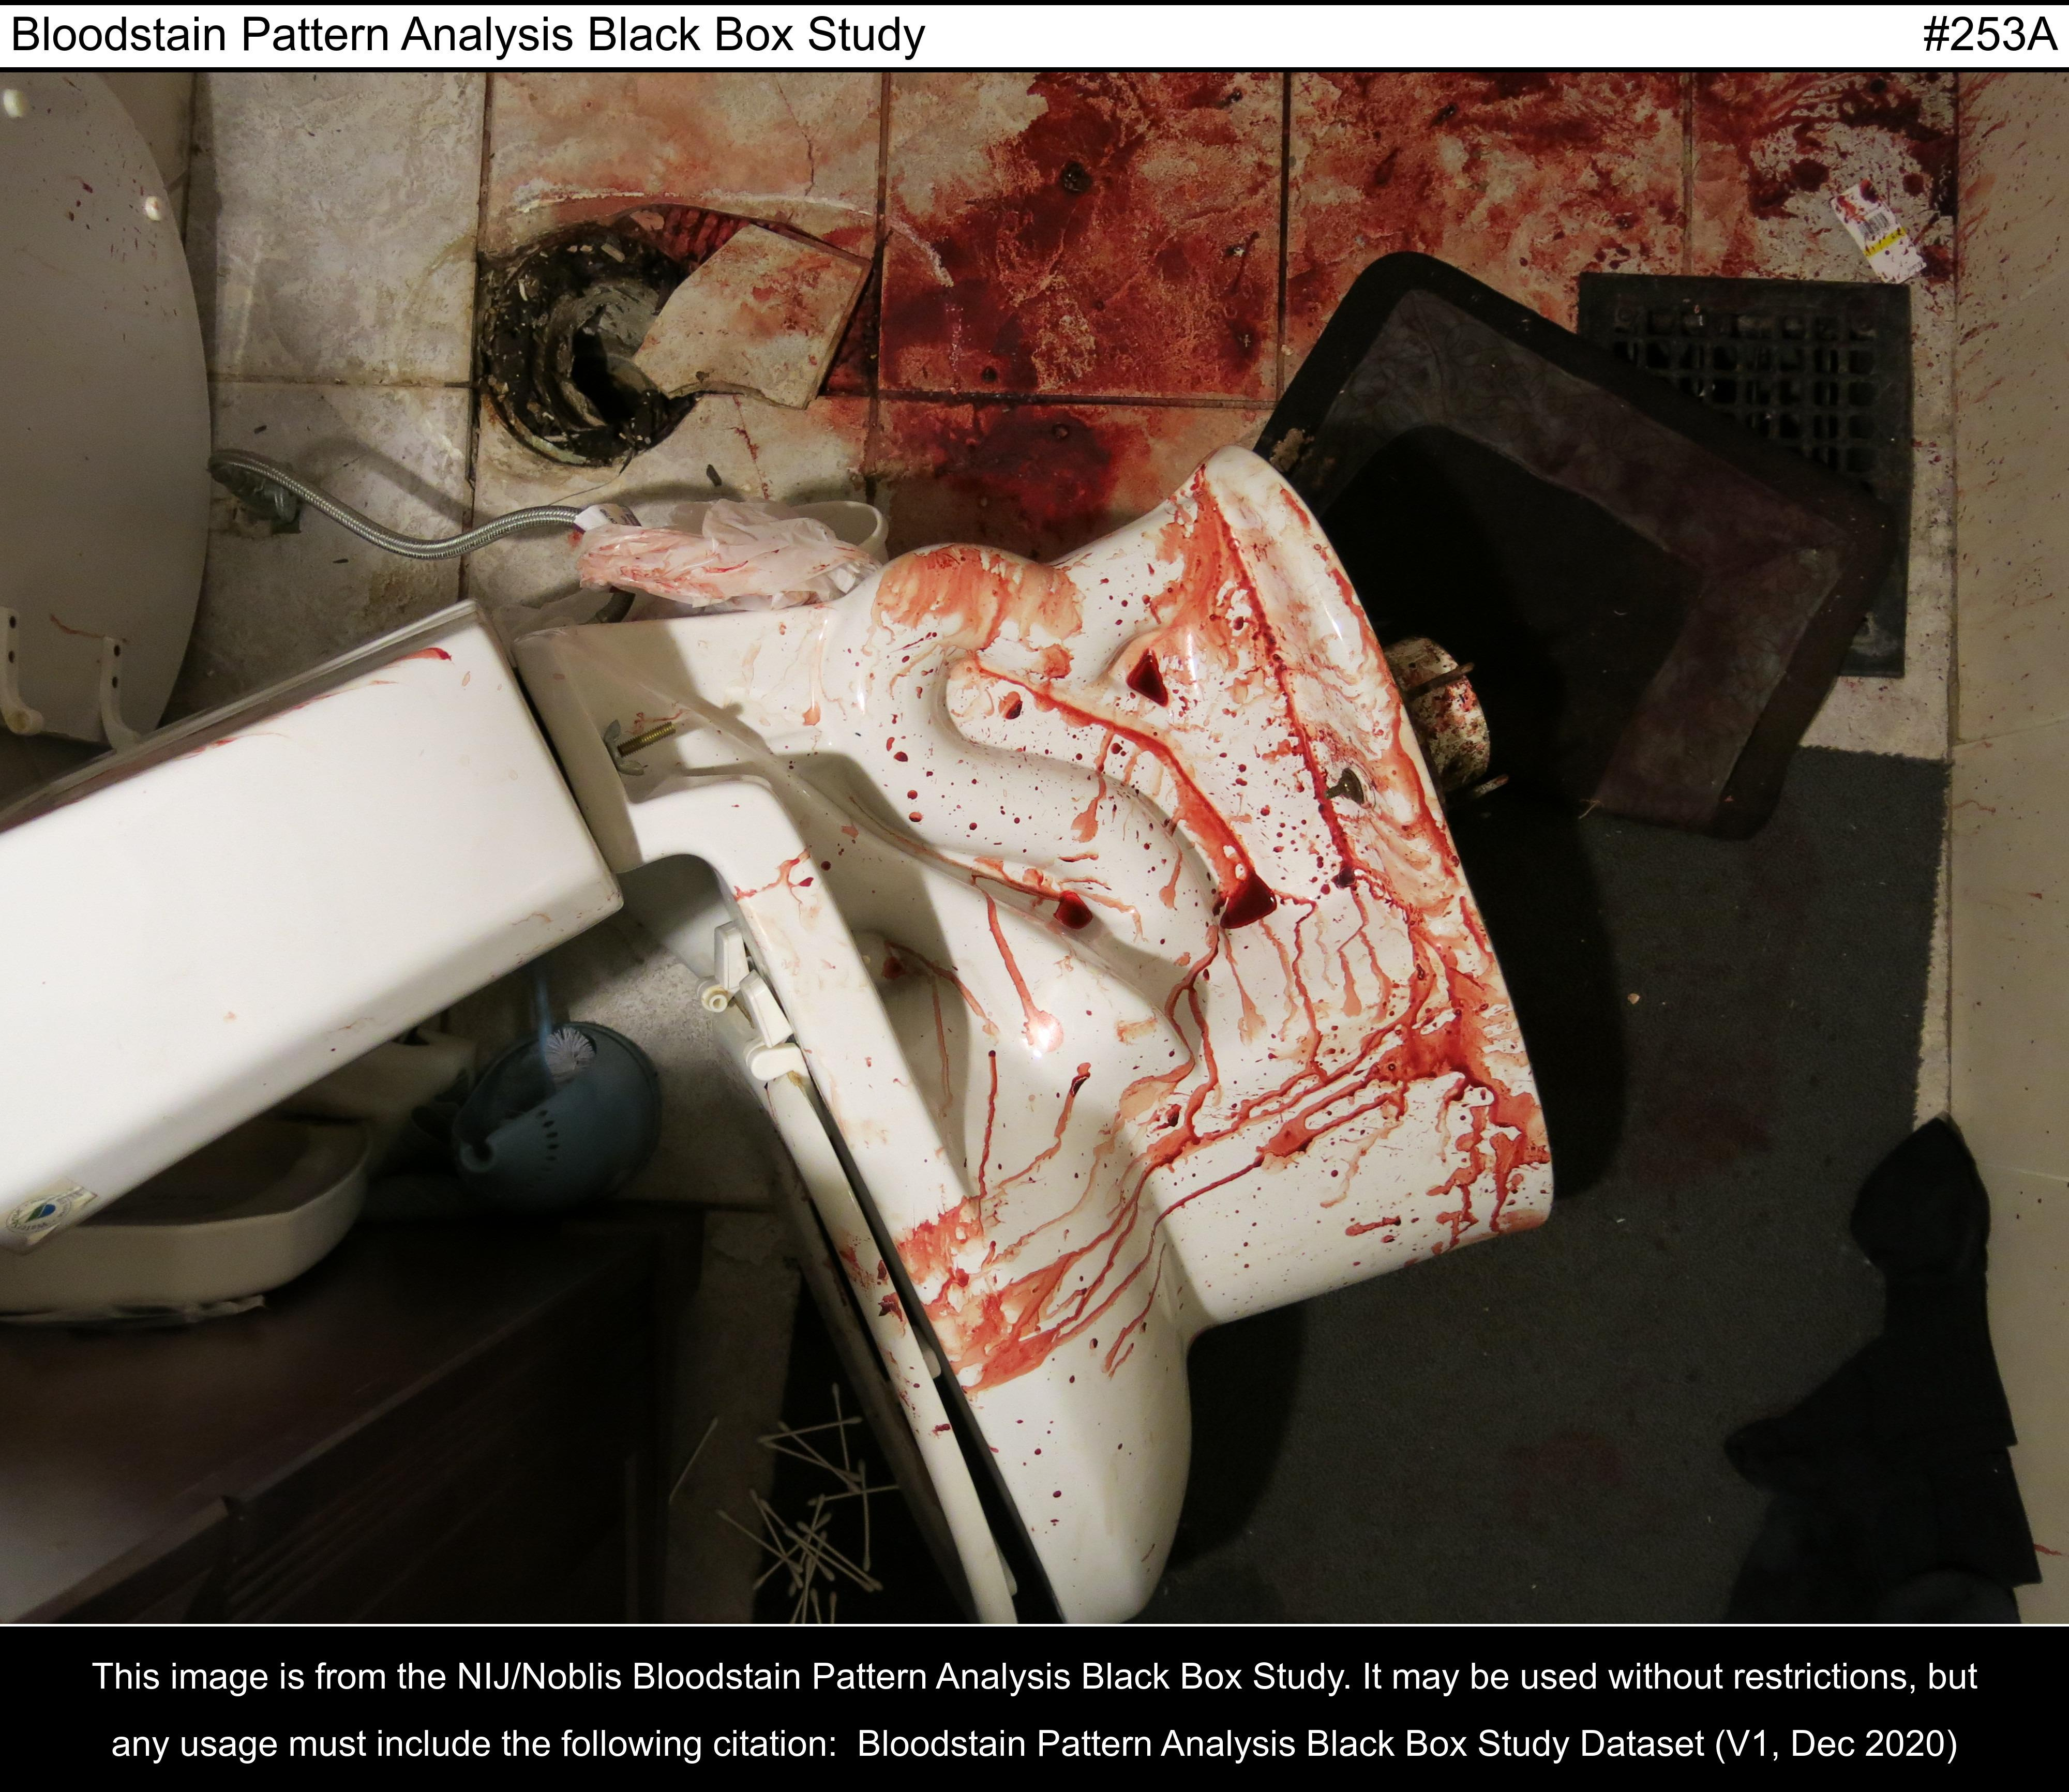Impact: (647, 647, 1562, 1402)
Passive: (792, 88, 1949, 522)
